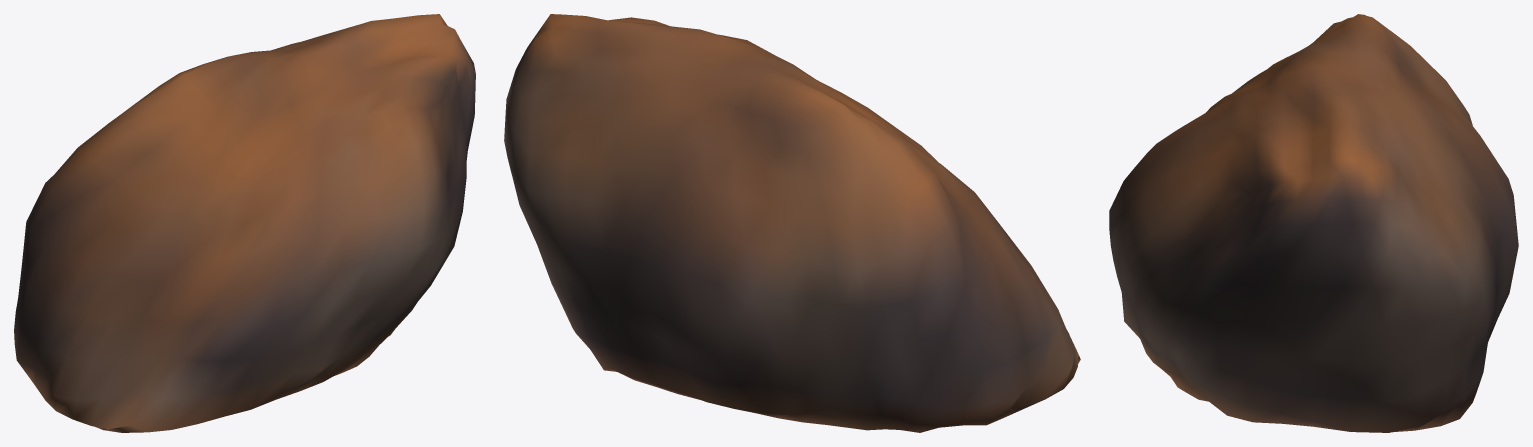
The model's file is shark.glb.
3 renders of one model, left to right at view 1: azimuth 30°, elevation 25°; view 2: azimuth 150°, elevation 25°; view 3: azimuth 270°, elevation 25°, orthographic. The views are drawn at different scales.
Visible parts, largest first — view 1: rock-shark; view 2: rock-shark; view 3: rock-shark.
Part boxes in pixels (box(x1,y1,x2,y2)): rock-shark: box(14, 14, 475, 432); rock-shark: box(504, 14, 1080, 432); rock-shark: box(1109, 14, 1518, 432).
Bounding box in the file's own units: 0.69 × 0.4 × 0.45.
